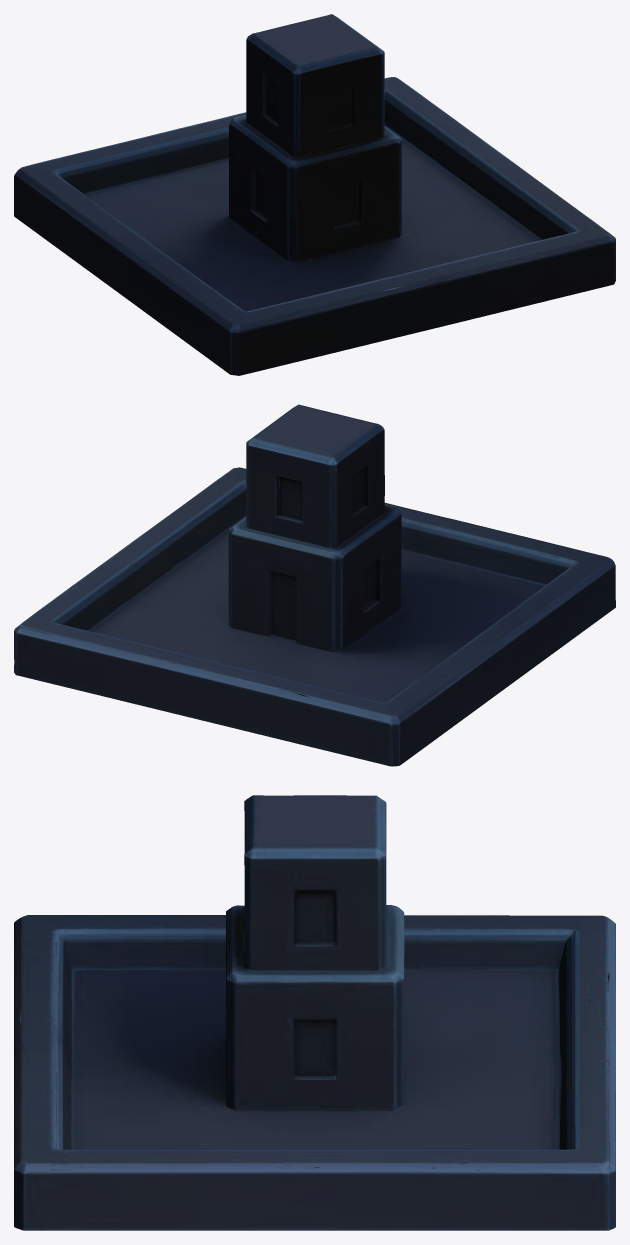
The model's file is empresa.glb.
3 views of the same model, one above another, from view 1: azimuth 30°, elevation 25°; view 2: azimuth 150°, elevation 25°; view 3: azimuth 270°, elevation 25° (orthographic). The views are drawn at different scales.
Size of the model in its own units: 1 by 0.5175 by 1.
Materials: 1 (1 with a texture image).
